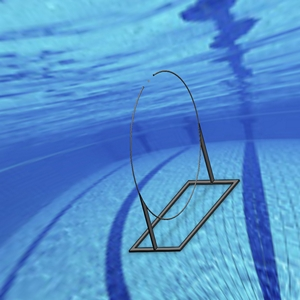circle: (125, 68, 240, 252)
